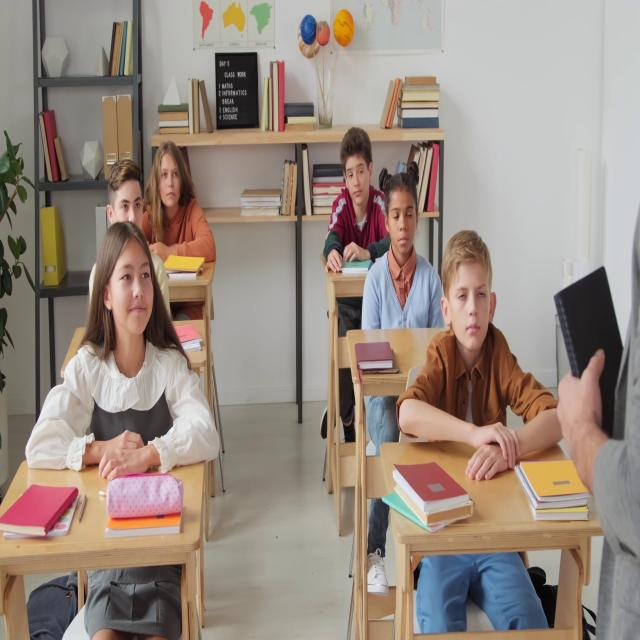listening: (396, 241, 562, 632), (26, 226, 223, 469), (360, 168, 444, 336), (88, 166, 172, 322), (144, 140, 218, 311), (323, 126, 385, 280)
